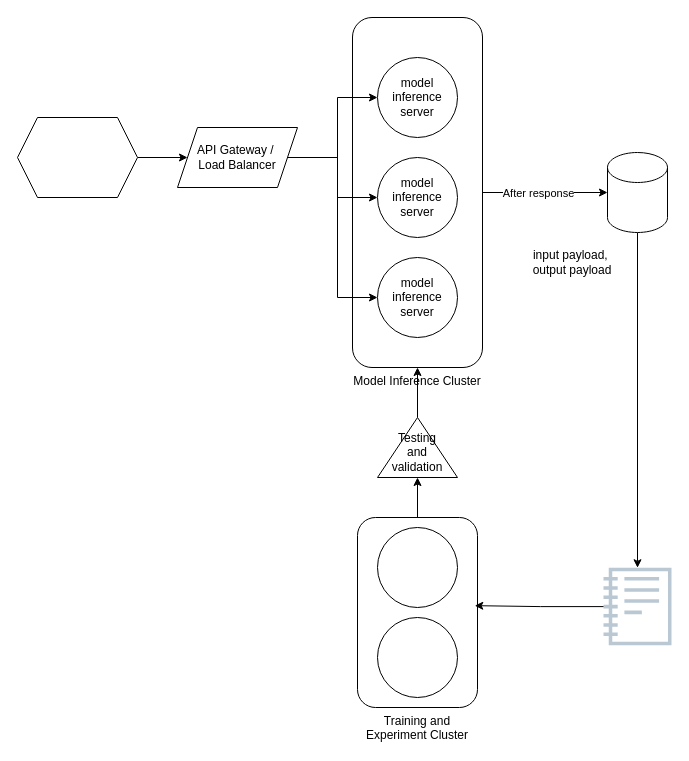
The diagram is 689 pixels wide and 761 high, and some of its shapes have lost their labels. The centre of each missing label's shape, as x and y in pixels:
"notebook" goes at (x=637, y=606).
"Object Storage" goes at (x=637, y=192).
"Payment Processor API Client" goes at (x=77, y=157).
